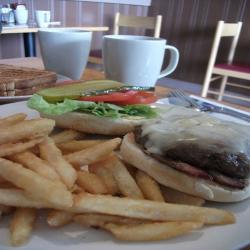bread: (1, 61, 56, 97)
burger: (32, 83, 250, 199)
fries: (4, 116, 211, 246)
